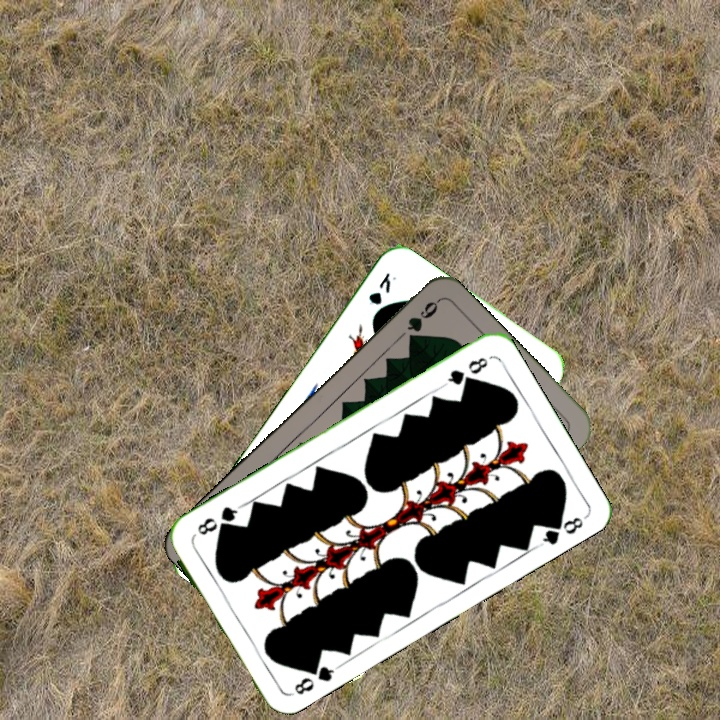G8: (289, 657, 340, 698), (439, 353, 491, 389)
G9: (403, 296, 442, 335)
GK: (364, 268, 400, 308)
